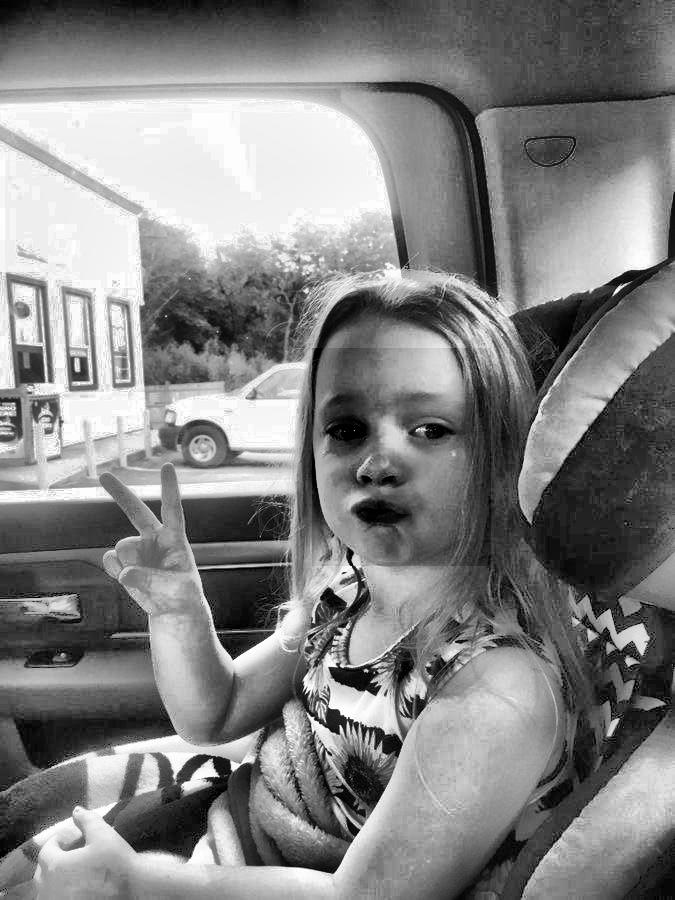sad: (313, 348, 492, 566)
